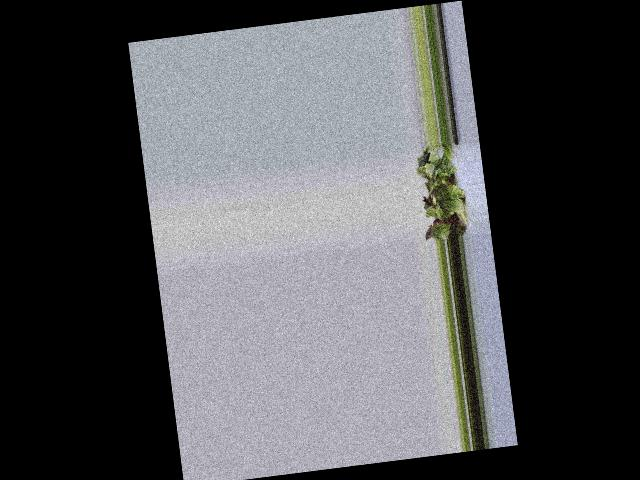lettuce: (418, 148, 464, 238)
